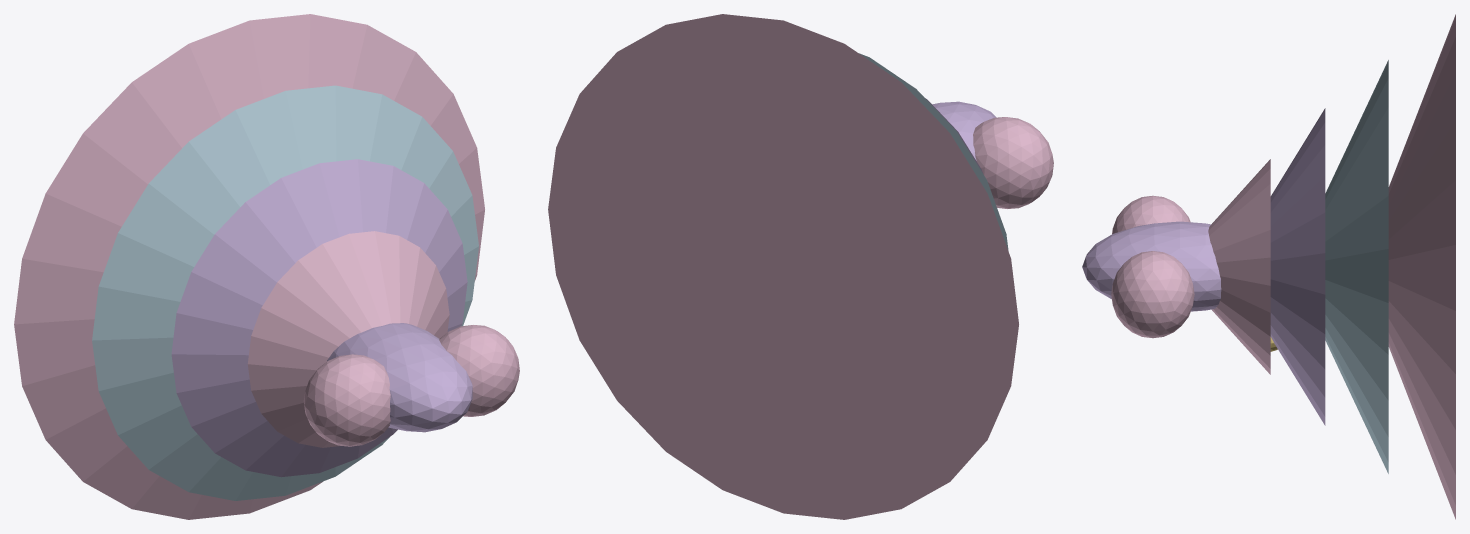
File: 04_Vestido_Magico.glb
3 renders of one model, left to right at view 1: azimuth 30°, elevation 25°; view 2: azimuth 150°, elevation 25°; view 3: azimuth 270°, elevation 25°, orthographic. The views are drawn at different scales.
Parts seen in each view (by area): view 1: layer_3, layer_2, layer_1, layer, bodice, sleeve, sleeve_1; view 2: layer_3, sleeve, bodice, layer_2; view 3: layer_3, layer_2, layer_1, layer, bodice, sleeve_1, sleeve.
Boxes of the visible parts, x1,y1,x2,y2 form: layer_3: [14, 14, 484, 519]; layer_2: [92, 85, 478, 500]; layer_1: [171, 159, 467, 477]; layer: [247, 231, 449, 447]; bodice: [327, 323, 472, 432]; sleeve: [303, 354, 390, 446]; sleeve_1: [439, 325, 519, 416]; layer_3: [548, 14, 1018, 519]; sleeve: [973, 117, 1053, 208]; bodice: [932, 101, 996, 160]; layer_2: [859, 53, 1008, 250]; layer_3: [1388, 14, 1455, 519]; layer_2: [1325, 60, 1388, 473]; layer_1: [1270, 108, 1325, 425]; layer: [1208, 159, 1270, 374]; bodice: [1082, 221, 1221, 311]; sleeve_1: [1111, 251, 1194, 338]; sleeve: [1112, 195, 1190, 233].
Bounding box in the file's own units: 2.8 × 2.8 × 2.06.
